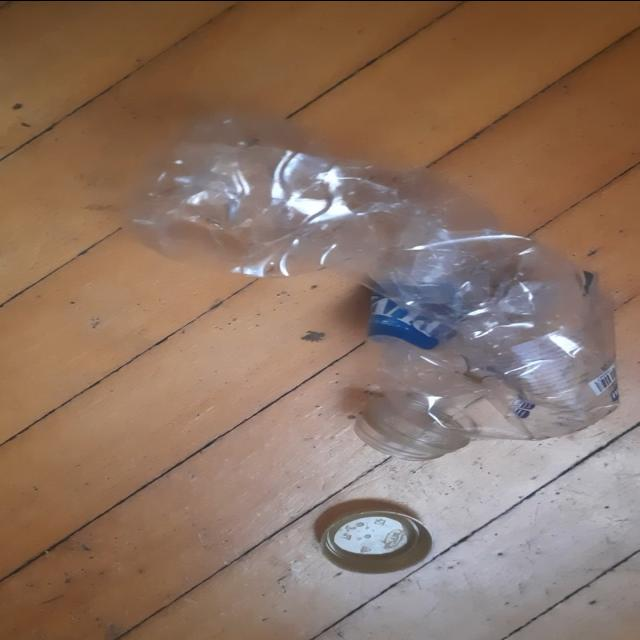Plastic: (121, 118, 619, 459)
